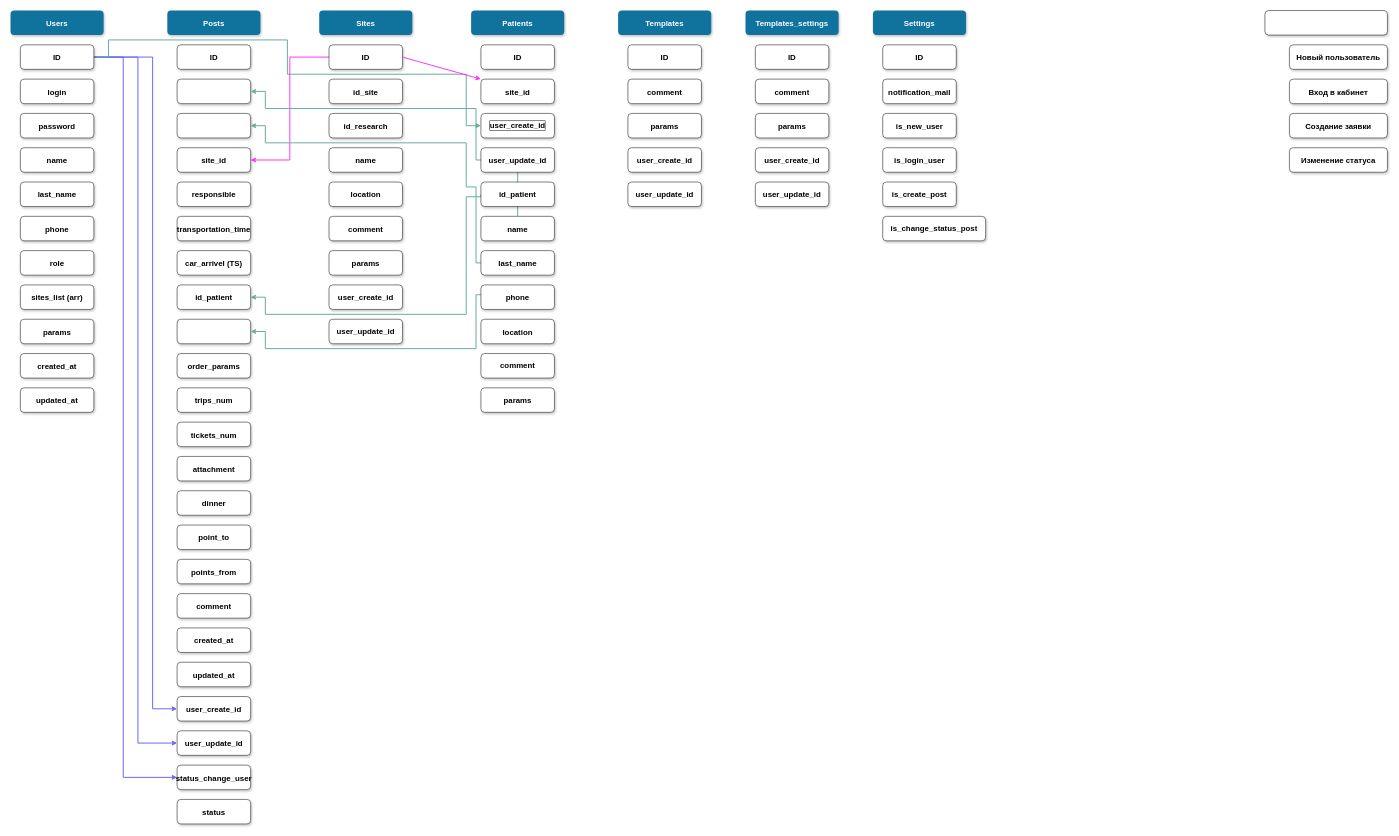
The diagram is 1399 pixels wide and 836 high, and some of its shapes have lost their labels. The shapes that lost their labels are listed below. From the top down, each one's centre as x and y in pixels, then its label:
At (1326,23): "Оповещения".
At (214,92): "patient_name".
At (214,126): "patient_last_name".
At (214,332): "patient_phone".
